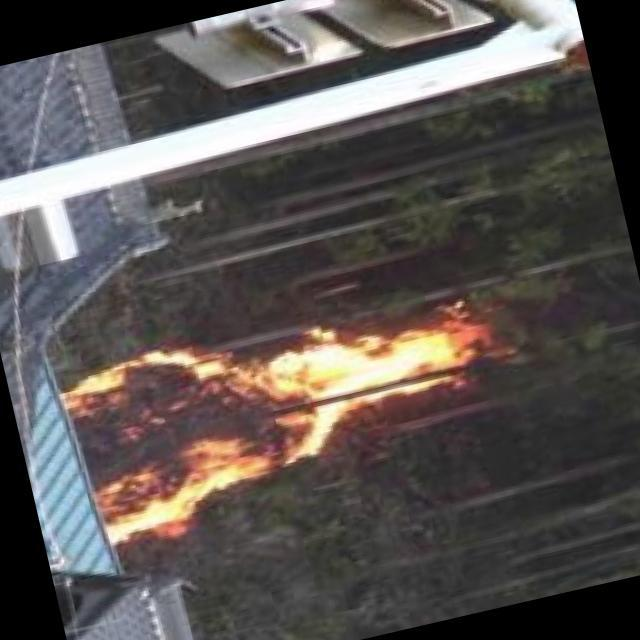Fire: (58, 272, 510, 551)
